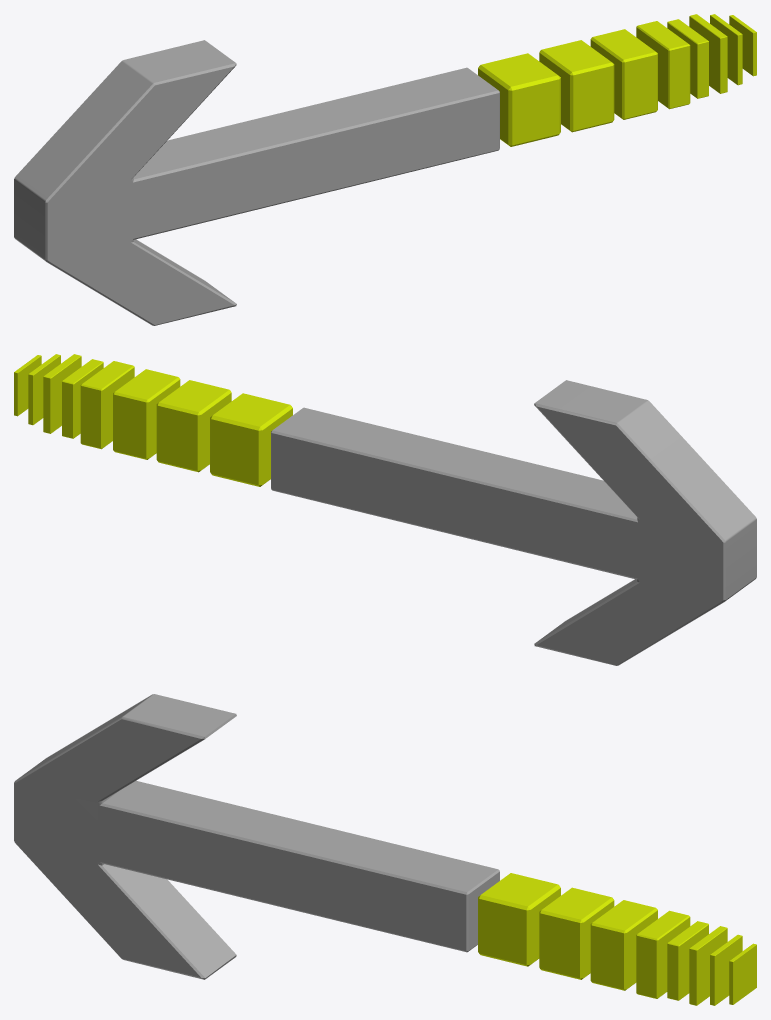
File: PijlRechtsM.fbx
The picture shows the model from 3 angles, top to bottom: view 1: azimuth 30°, elevation 25°; view 2: azimuth 150°, elevation 25°; view 3: azimuth 330°, elevation 25°; orthographic projection.
Parts seen in each view (by area): view 1: pijlrechts, losse_stukjes; view 2: pijlrechts, losse_stukjes; view 3: pijlrechts, losse_stukjes.
Boxes of the visible parts, <box> form: pijlrechts: <box>14,40,499,325</box>; losse_stukjes: <box>478,14,756,146</box>; pijlrechts: <box>271,380,756,665</box>; losse_stukjes: <box>14,354,292,486</box>; pijlrechts: <box>14,694,499,979</box>; losse_stukjes: <box>478,873,756,1005</box>.
Bounding box in the file's own units: 1243 × 404 × 100.
